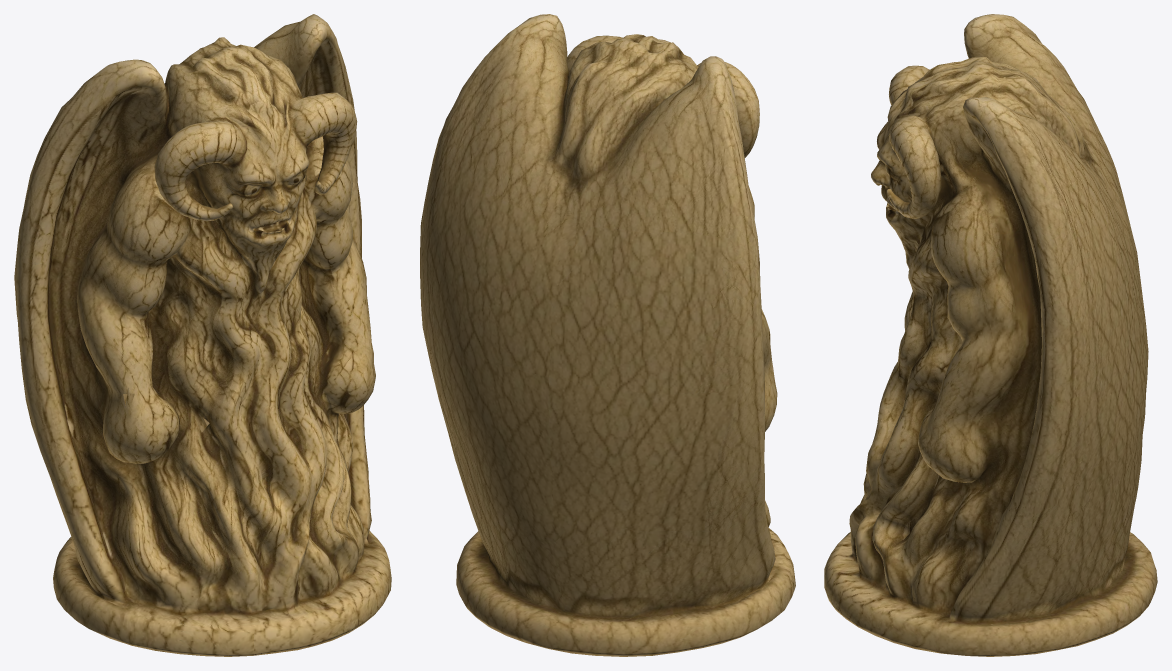
The model's file is balrog.glb.
3 renders of one model, left to right at view 1: azimuth 30°, elevation 25°; view 2: azimuth 150°, elevation 25°; view 3: azimuth 270°, elevation 25°, orthographic. The views are drawn at different scales.
Visible parts, largest first — view 1: mesh_node; view 2: mesh_node; view 3: mesh_node.
Boxes of the visible parts, left/top/right/bottom form: mesh_node: left=14, top=14, right=391, bottom=656; mesh_node: left=420, top=14, right=795, bottom=656; mesh_node: left=824, top=14, right=1157, bottom=656.
Bounding box in the file's own units: 0.6523 × 1 × 0.5703.
1 material, 1 textured.
